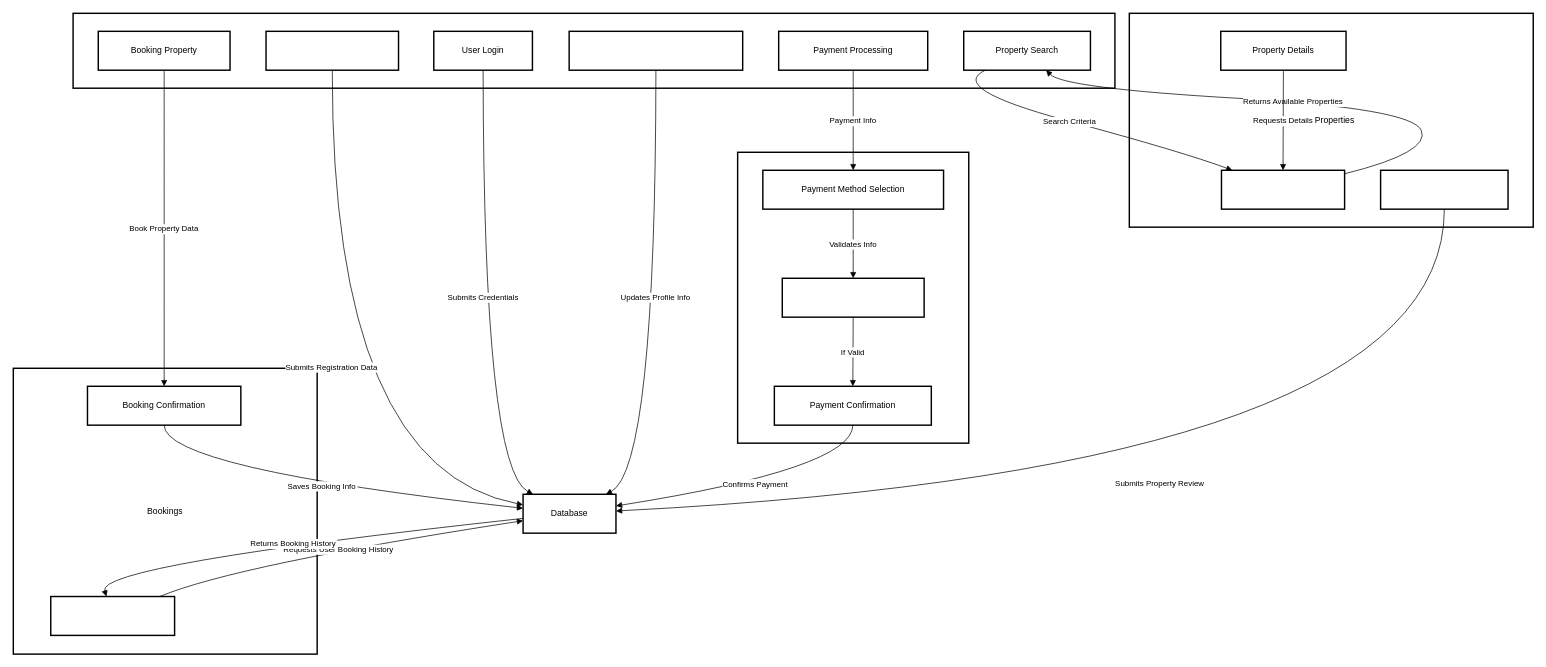
This 1546x667 diagram has some shape labels left out. The centre of each missing label's shape, as x and y in pixels:
"Booking History" belongs at (112,615).
"Payment Validation" belongs at (852,297).
"Property Listing" belongs at (1282,189).
"Property Review" belongs at (1444,189).
"User Profile Management" belongs at (655,50).
"User Registration" belongs at (332,50).
